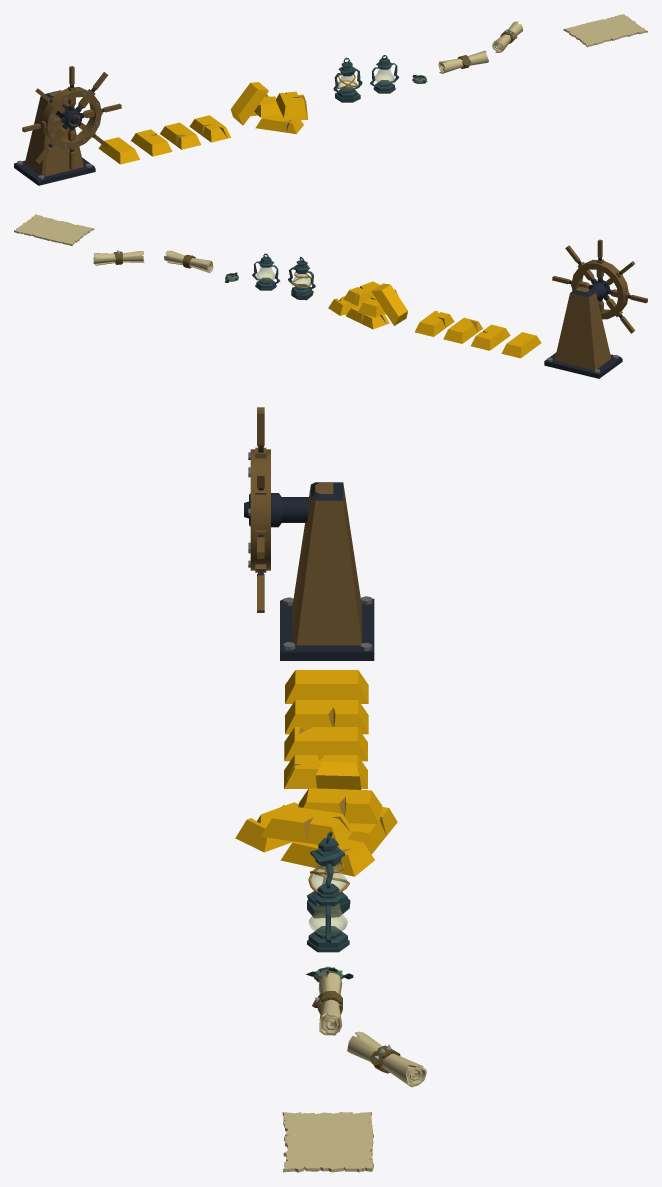
Rendered from modelos_semana_5.fbx.
3 views of the same model, one above another, from view 1: azimuth 30°, elevation 25°; view 2: azimuth 150°, elevation 25°; view 3: azimuth 270°, elevation 25° (orthographic). The views are drawn at different scales.
Parts seen in each view (by area): view 1: Timao, Ouro_Barras, Mapa_Aberto, Lamparina, Lamparina_Original, Ouro_Velho_2, Ouro_Velho_3, Ouro_Velho_1, Ouro, Mapa_Fechado, Mapa_Fechado_3; view 2: Timao, Ouro_Barras, Mapa_Aberto, Lamparina, Lamparina_Original, Ouro, Ouro_Velho_2, Ouro_Velho_1, Ouro_Velho_3, Mapa_Fechado_3, Mapa_Fechado; view 3: Timao, Ouro_Barras, Mapa_Aberto, Ouro, Ouro_Velho_2, Ouro_Velho_1, Lamparina_Original, Mapa_Fechado_3, Lamparina, Ouro_Velho_3, Mapa_Fechado.
Part boxes in pixels (box(x1,y1,x2,y2)): Timao: box(14, 66, 121, 185); Ouro_Barras: box(230, 82, 308, 134); Mapa_Aberto: box(563, 14, 647, 47); Lamparina: box(333, 57, 362, 102); Lamparina_Original: box(370, 55, 399, 93); Ouro_Velho_2: box(160, 122, 201, 149); Ouro_Velho_3: box(189, 115, 230, 142); Ouro_Velho_1: box(131, 129, 172, 156); Ouro: box(98, 137, 139, 164); Mapa_Fechado: box(438, 50, 488, 73); Mapa_Fechado_3: box(492, 21, 522, 52); Timao: box(544, 239, 647, 378); Ouro_Barras: box(328, 281, 407, 329); Mapa_Aberto: box(14, 214, 94, 245); Lamparina: box(288, 256, 315, 300); Lamparina_Original: box(252, 253, 280, 290); Ouro: box(501, 332, 541, 358); Ouro_Velho_2: box(443, 317, 482, 343); Ouro_Velho_1: box(471, 324, 510, 350); Ouro_Velho_3: box(415, 310, 454, 336); Mapa_Fechado_3: box(93, 250, 144, 265); Mapa_Fechado: box(164, 250, 213, 272); Timao: box(244, 407, 374, 660); Ouro_Barras: box(235, 761, 397, 876); Mapa_Aberto: box(282, 1112, 373, 1172); Ouro: box(285, 670, 368, 703); Ouro_Velho_2: box(284, 727, 367, 761); Ouro_Velho_1: box(285, 700, 368, 734); Lamparina_Original: box(307, 877, 349, 952); Mapa_Fechado_3: box(347, 1031, 426, 1087); Lamparina: box(307, 831, 350, 918); Ouro_Velho_3: box(284, 755, 367, 788); Mapa_Fechado: box(312, 972, 342, 1035).
Size of the model in its own units: 1071 by 188 by 146.
